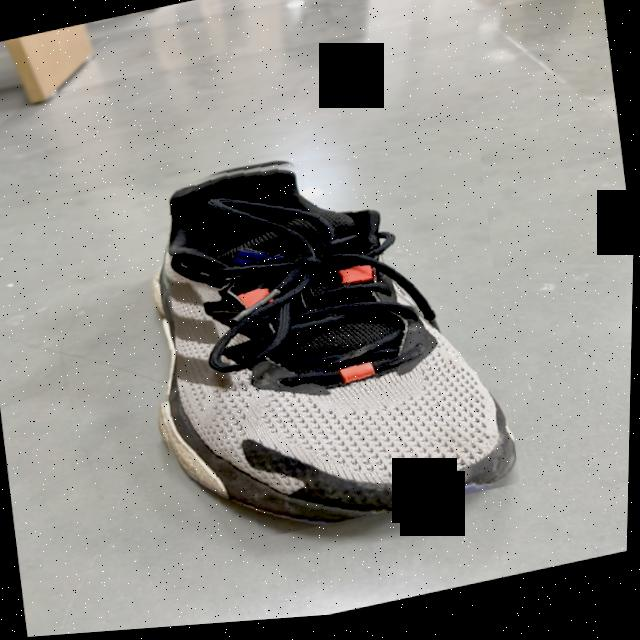shoe: (128, 119, 528, 562)
